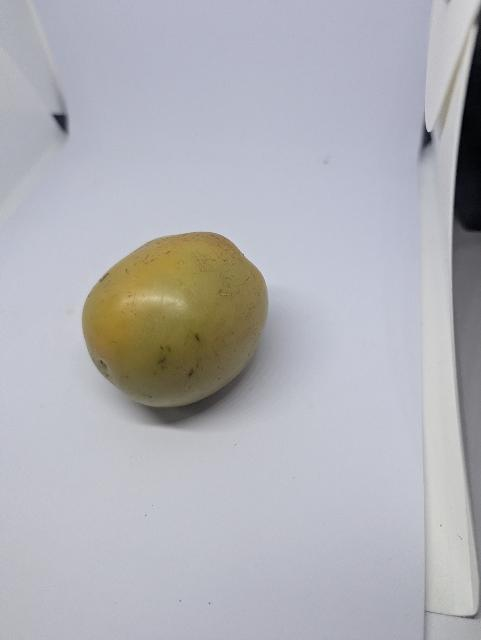breaker: (71, 228, 277, 408)
